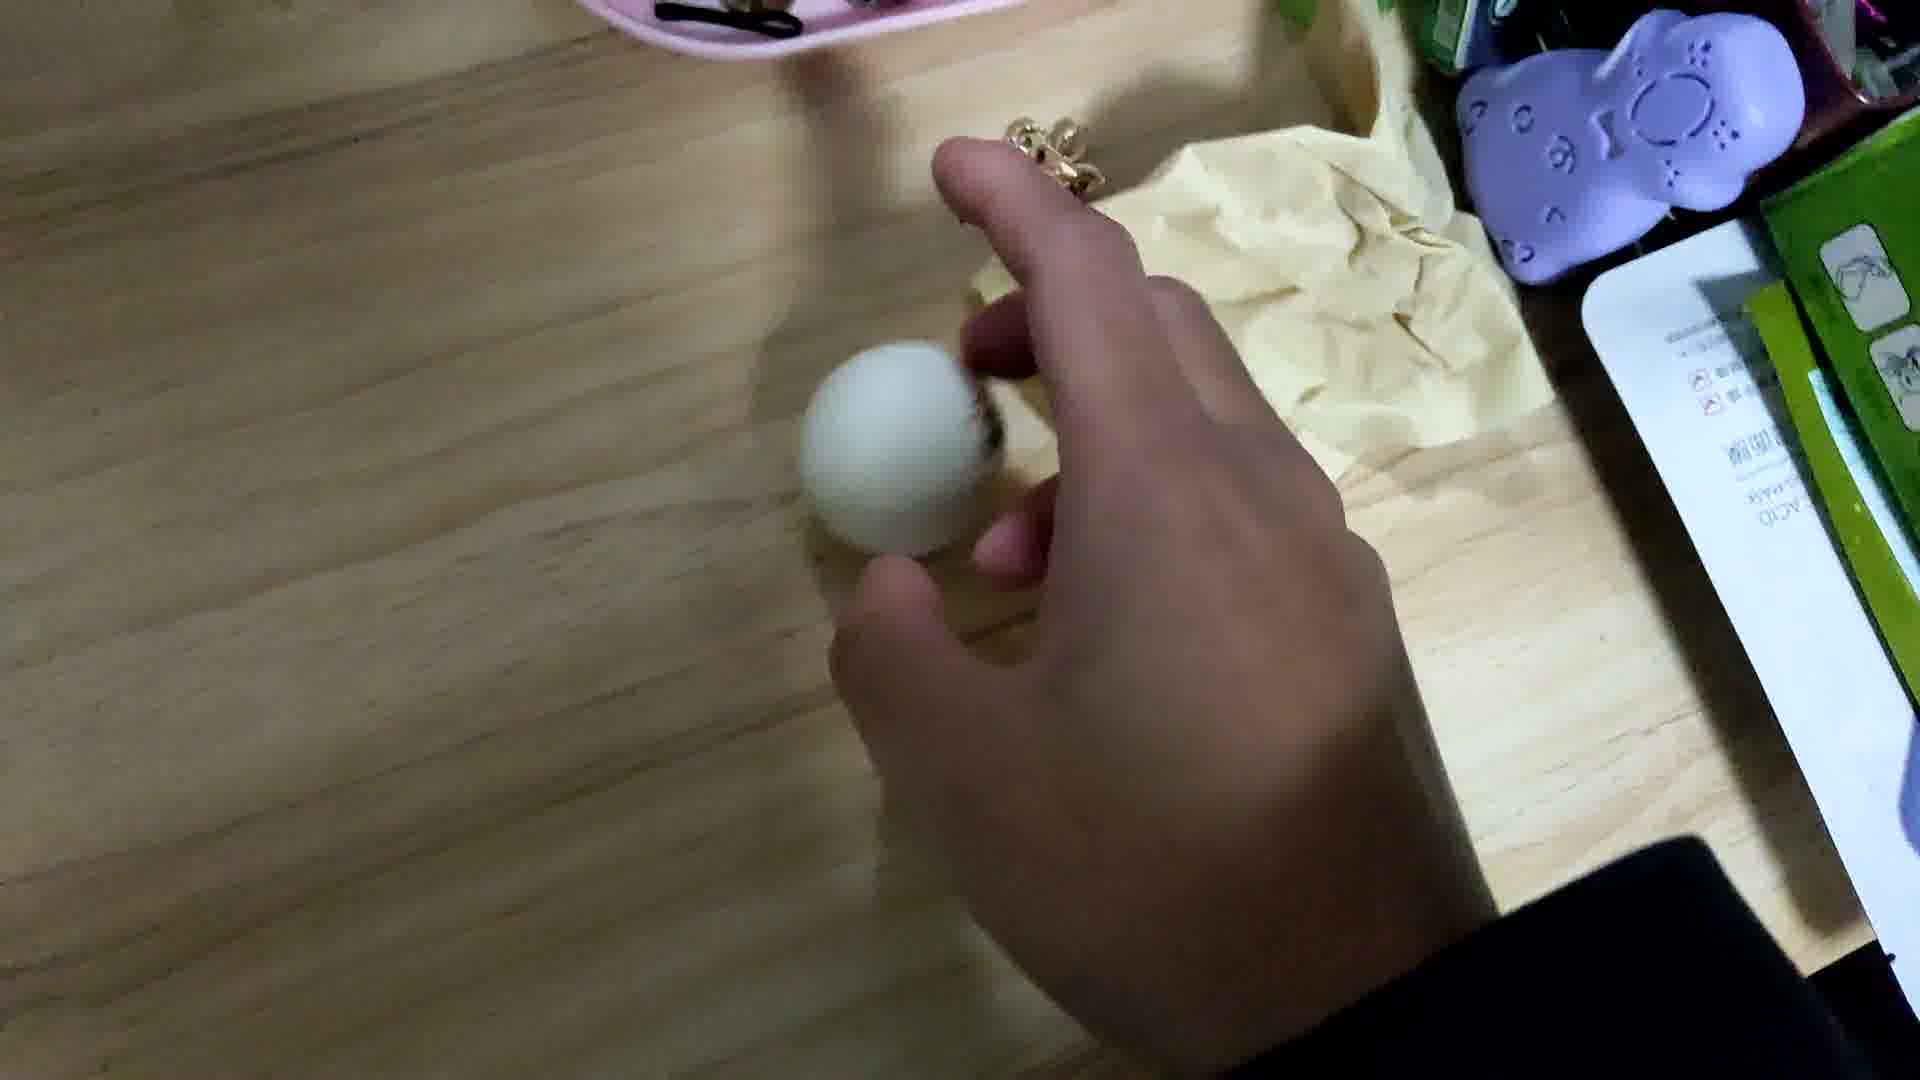Ball: (804, 342, 996, 563)
